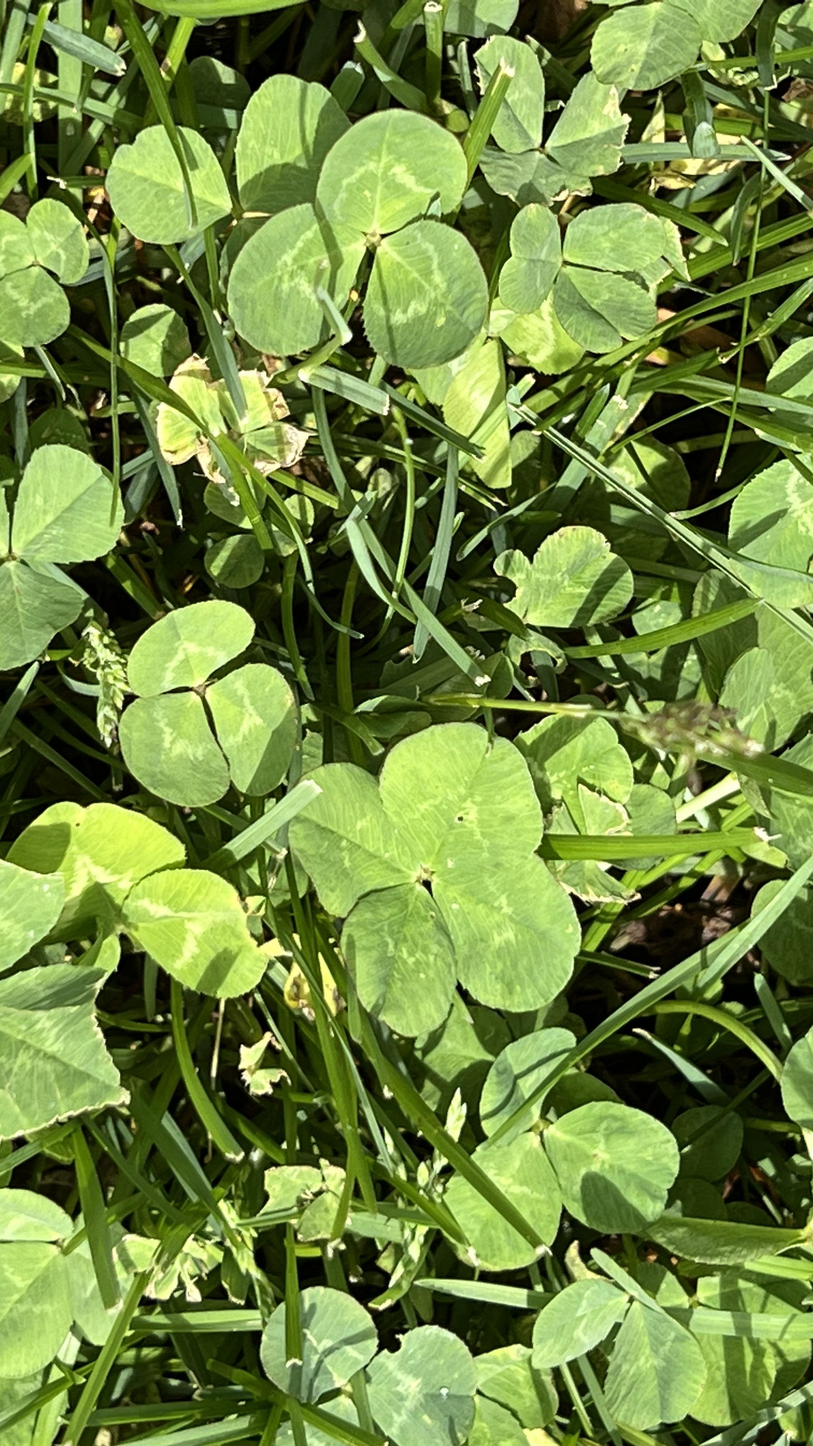4-Leaf-Clovers: (295, 719, 571, 1022)
